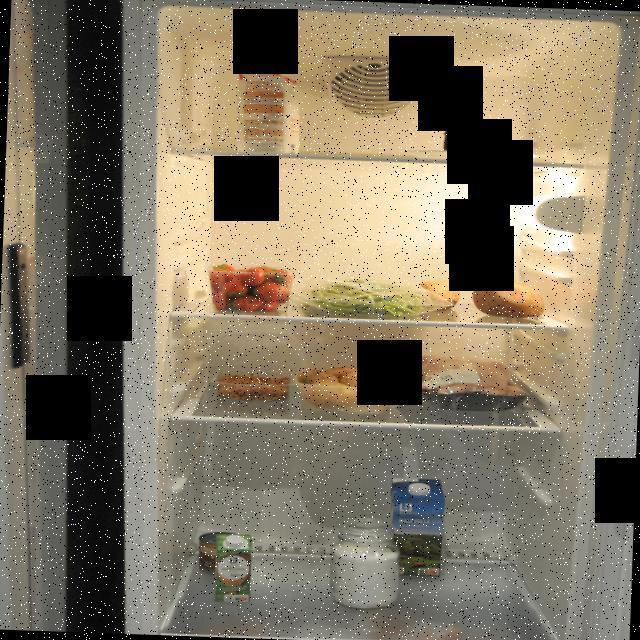Beans: (295, 274, 457, 320)
Berries strawberries/blueberries: (205, 260, 300, 314)
Cheese: (441, 126, 496, 153)
Chicken: (394, 350, 534, 416)
Corn ear: (197, 530, 244, 576)
Cream: (213, 532, 253, 603)
Milk carton/jug: (386, 474, 450, 580)
Potato: (291, 364, 394, 414)
Shrimp: (213, 368, 289, 408)
Sugar: (328, 514, 402, 611), (232, 69, 304, 155)
Sweet Potato: (472, 268, 548, 320), (421, 276, 465, 306)
